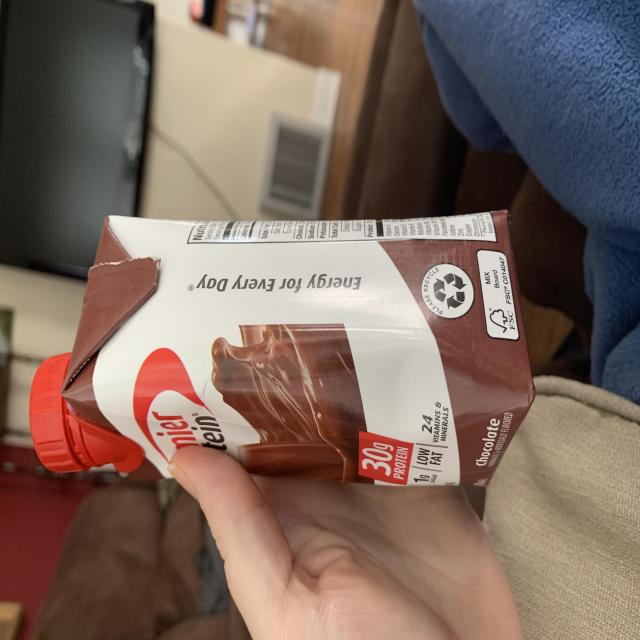non_white_jug: (29, 213, 537, 492)
